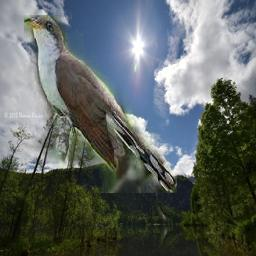Cuckoo: (25, 15, 178, 193)
